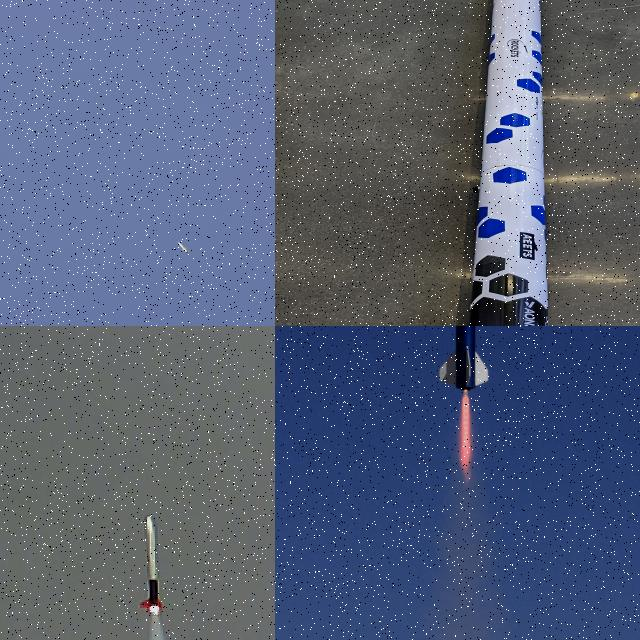Rocket: (469, 0, 550, 326), (437, 326, 489, 391), (138, 515, 164, 613), (177, 242, 191, 255)
